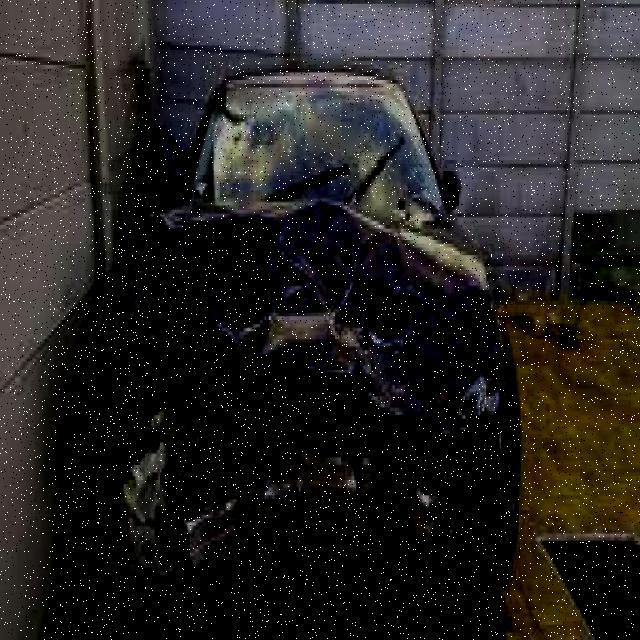car damage: (103, 134, 524, 621)
